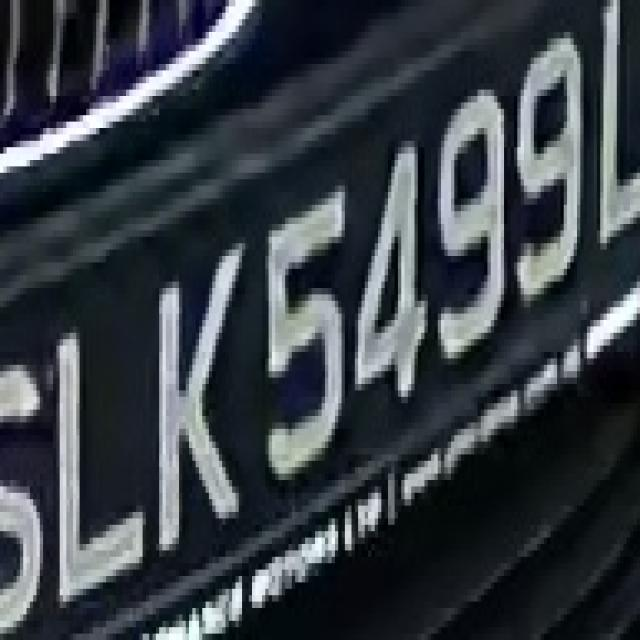4: (345, 109, 431, 422)
5: (258, 173, 362, 493)
9: (431, 70, 511, 378), (511, 32, 584, 301)
K: (149, 262, 252, 557)
L: (43, 307, 149, 621), (587, 0, 640, 275)
S: (3, 313, 46, 640)
